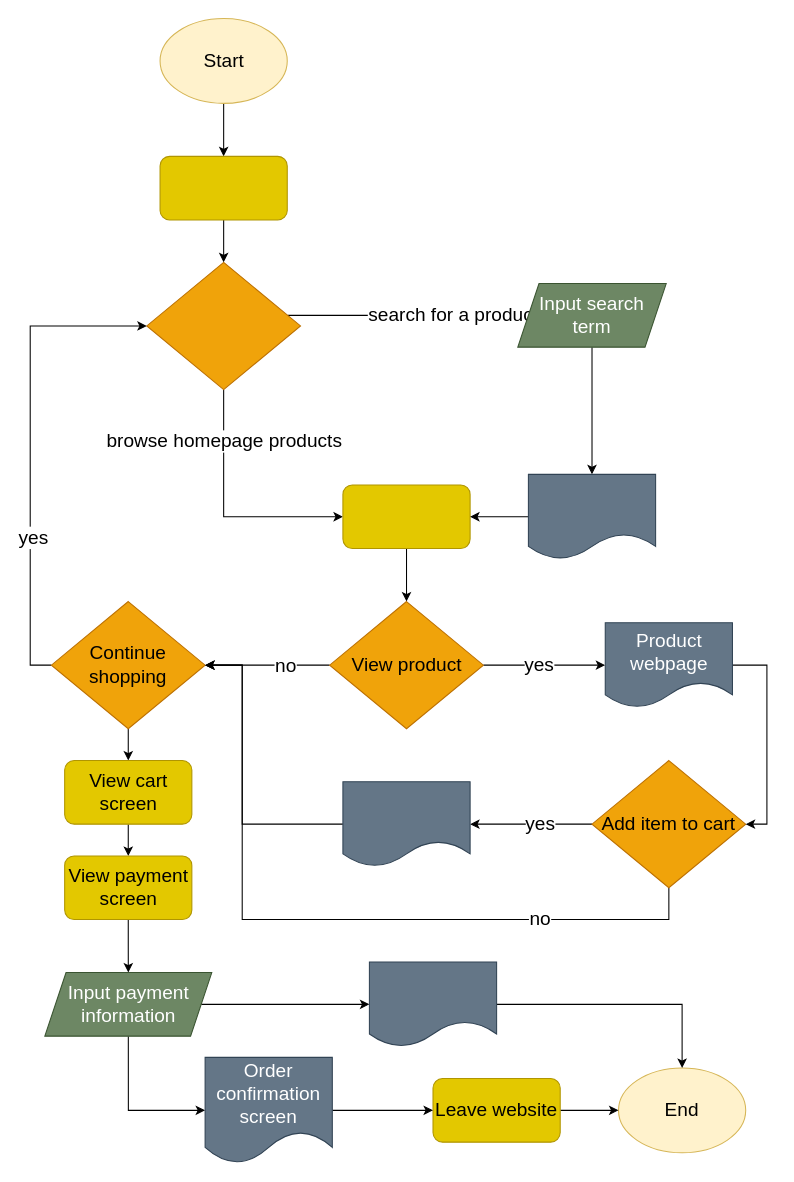
Image size: 794x1182. Some labels were removed from this diagram. The shapes that lost their labels are listed below. From the top down, each one's box as (x1, y1, x2, y2) in pixels, then its label:
(159, 155, 287, 220): Enter website
(146, 261, 301, 390): Choose to...
(342, 484, 470, 549): Browse products
(527, 473, 656, 559): Search results
(342, 781, 470, 867): Add to cart confirmation
(368, 961, 497, 1047): Confirmation email
